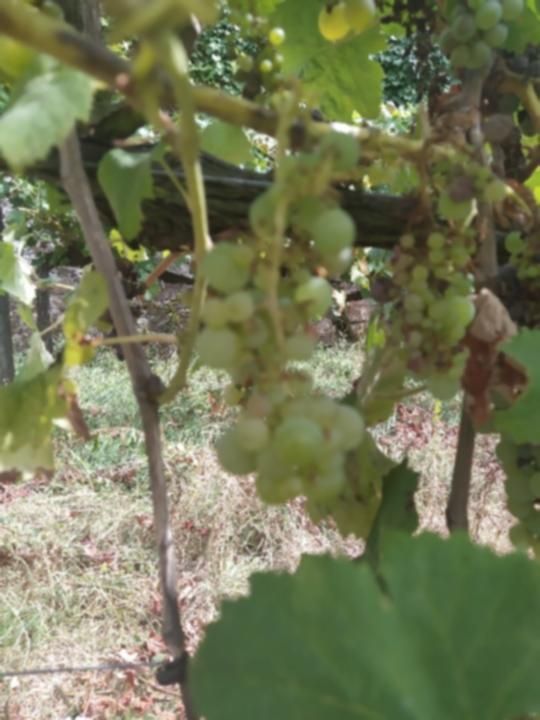grape: (191, 175, 369, 524)
